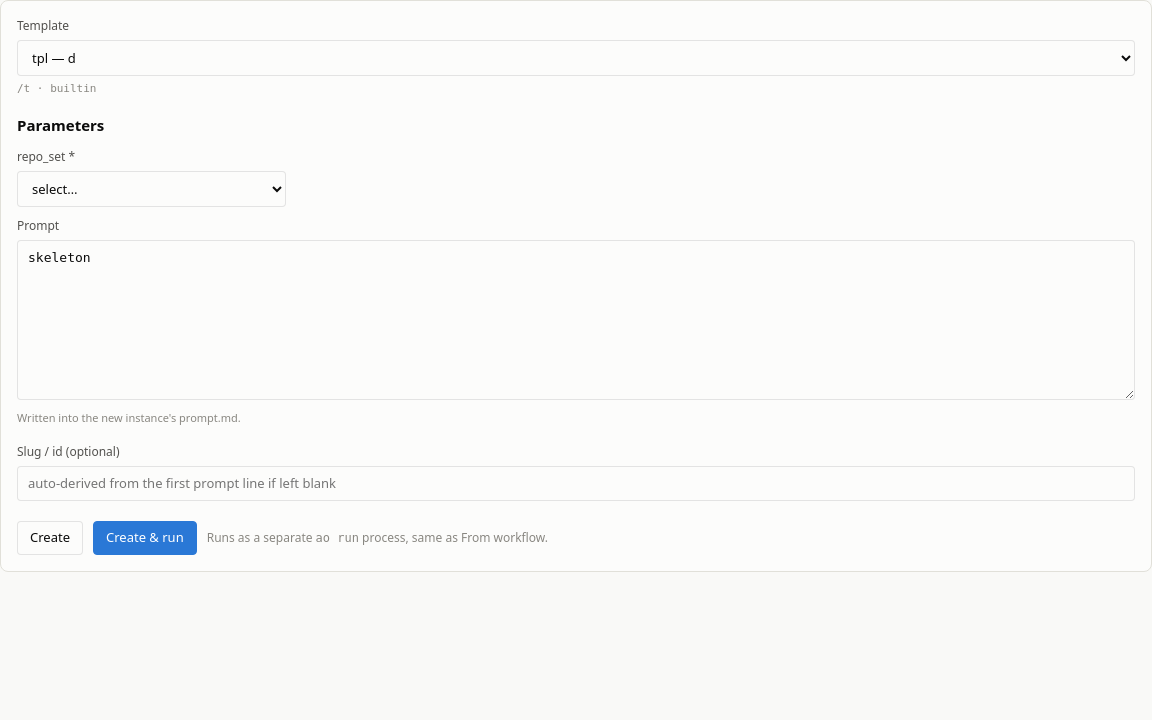
Test case: TemplateLaunch 'Create & run' flow › a start response without launch info falls back to the created banner
Select "fin-plan" in the dropdown labelled "repo_set *": [152, 189] box top-left (17, 171), bottom-right (286, 207)
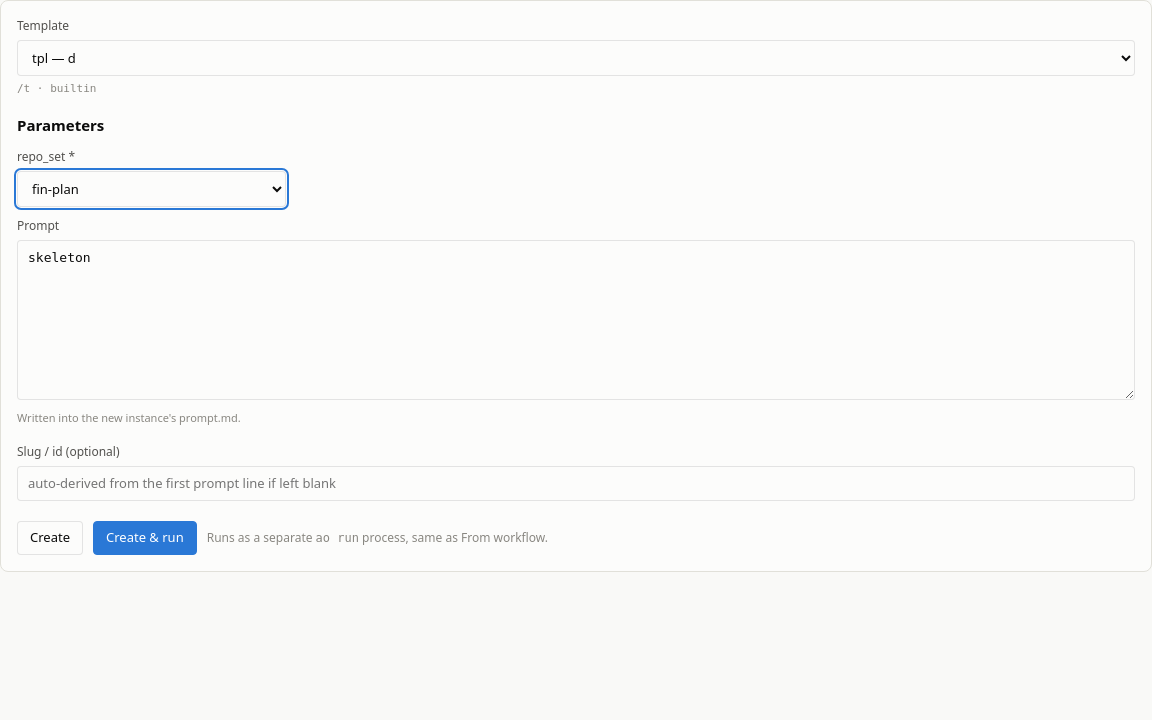
Click the button "Create & run": [145, 538] box top-left (93, 521), bottom-right (197, 554)
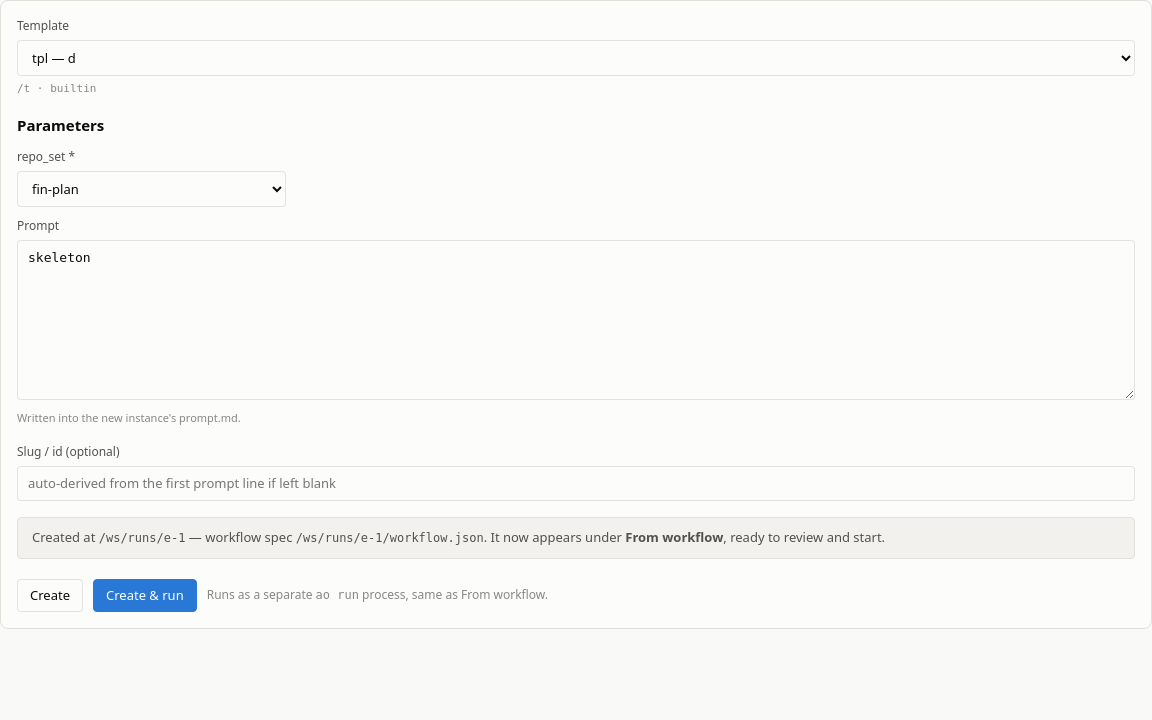
Check: the text "Created at" is shown, box top-left (32, 528), bottom-right (99, 546)
